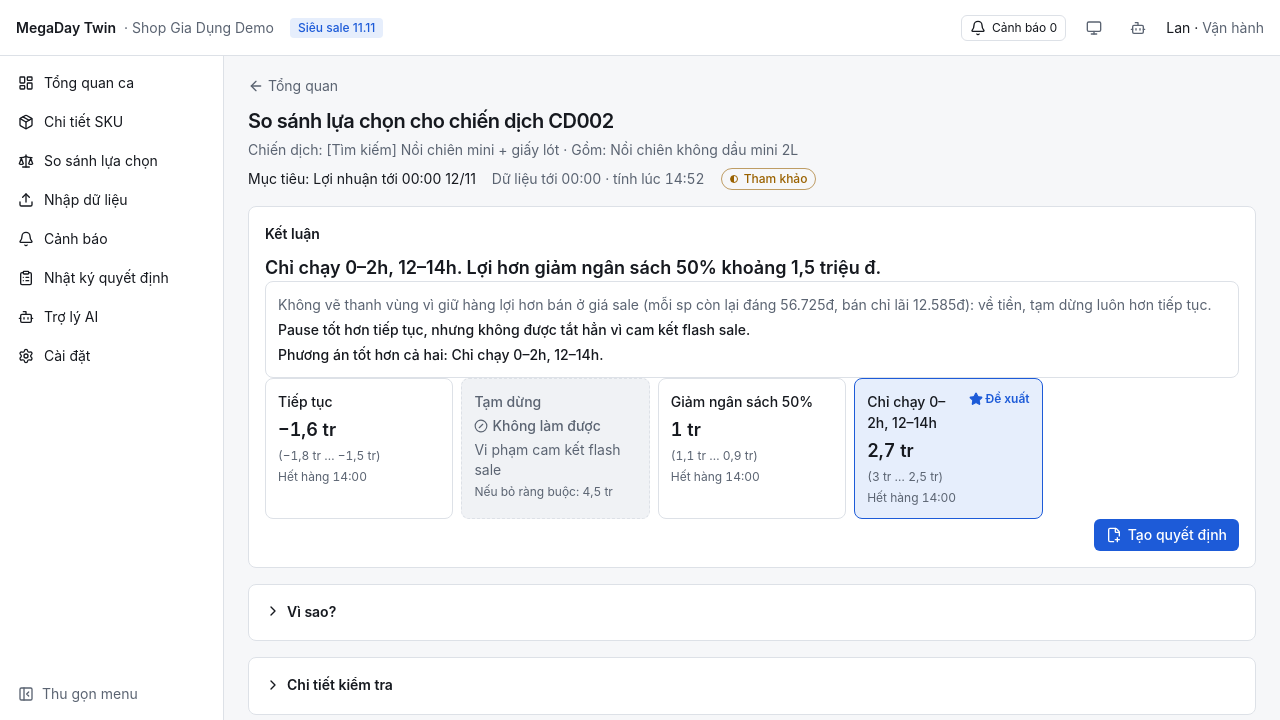
it: Compare · real API › shows the API message when a re-run fails
Click the button "Vì sao?".
click(301, 611)  # box x1=261 y1=597 x2=340 y2=626
(page scrolled)
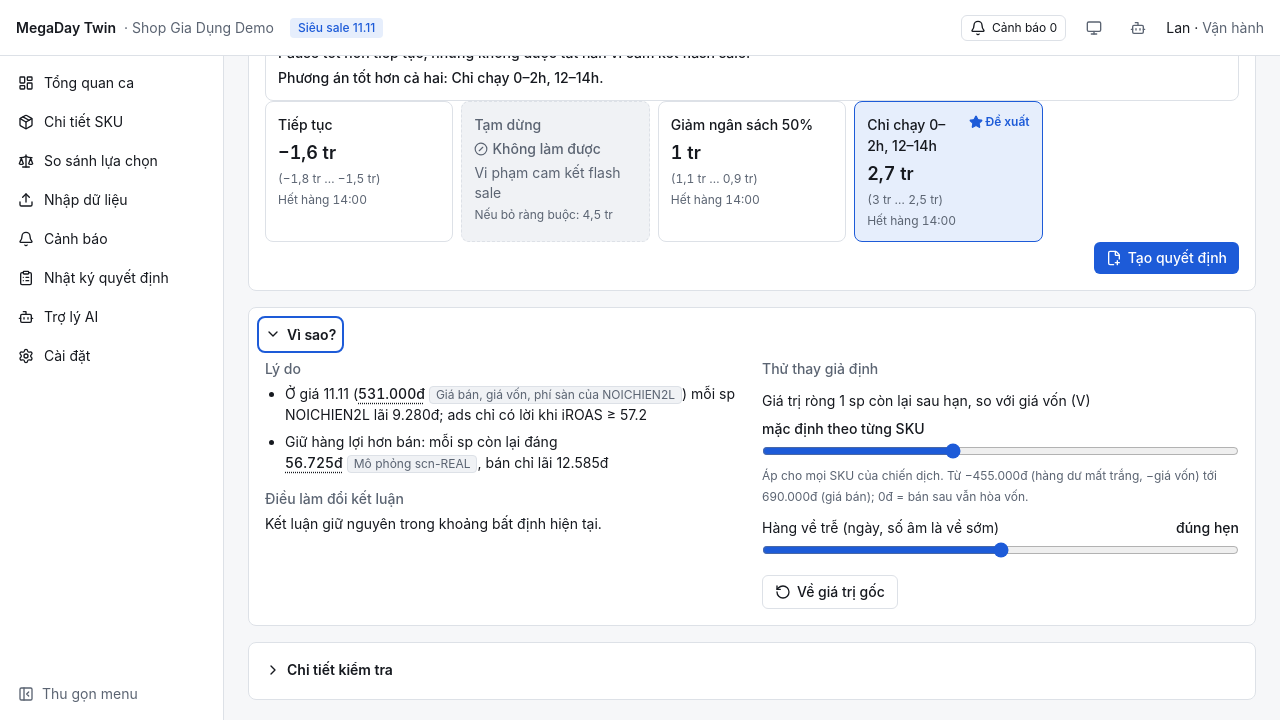
Set the slider labelled "Hàng về trễ (ngày, số âm là về sớm) đúng hẹn" to "-1" at (968, 550), box x1=762 y1=542 x2=1239 y2=558
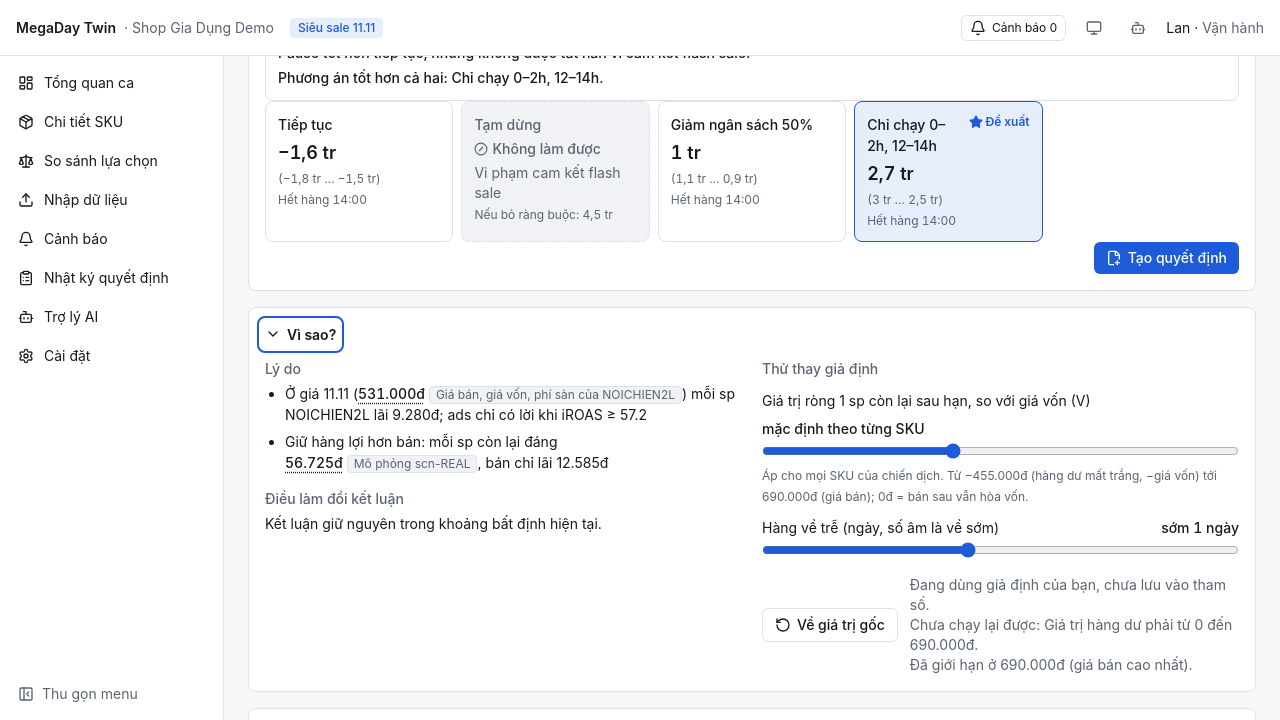
Expected: the text "Chưa chạy lại được: Giá trị hàng dư phải từ 0 đến 690.000đ." is shown, x1=910 y1=615 x2=1239 y2=655
